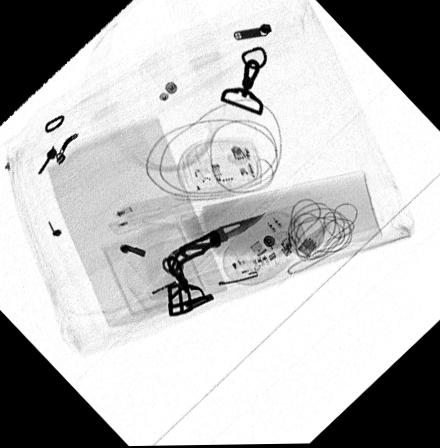Knife: (159, 212, 265, 277)
